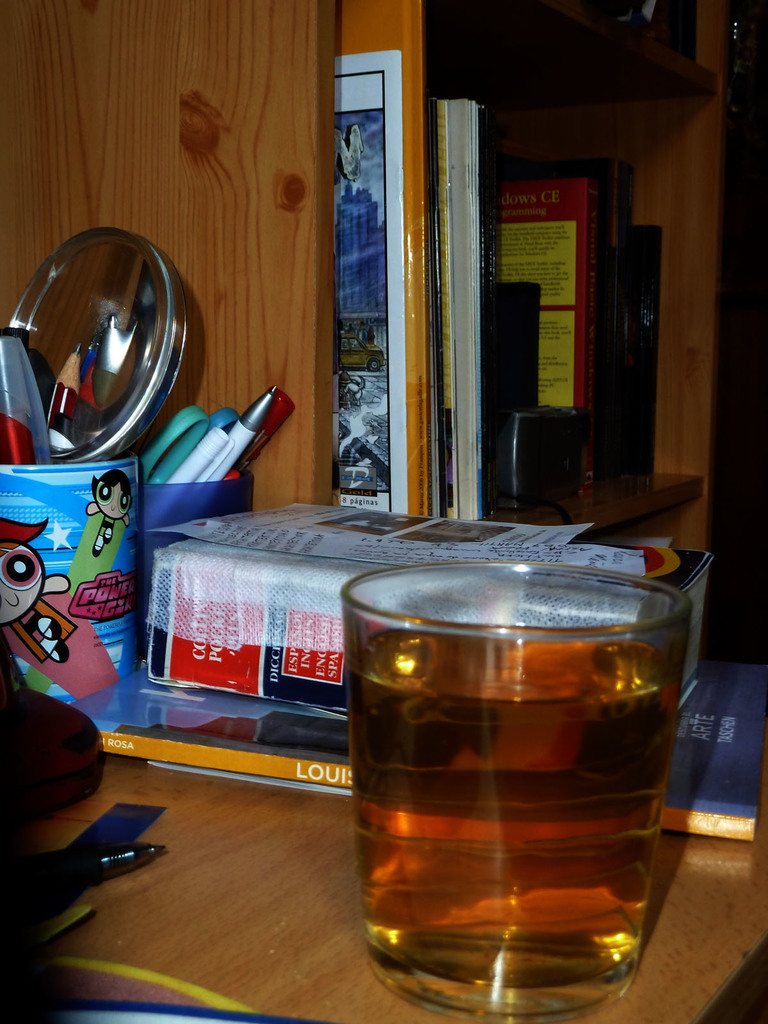Beer: (342, 601, 667, 976)
